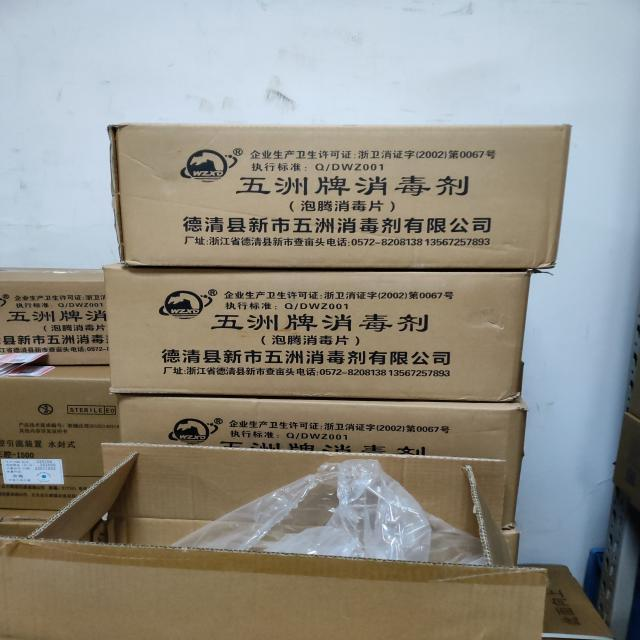box: (0, 446, 543, 640), (104, 119, 563, 272), (103, 264, 522, 404), (118, 392, 520, 528), (0, 359, 125, 508), (0, 263, 123, 365)
